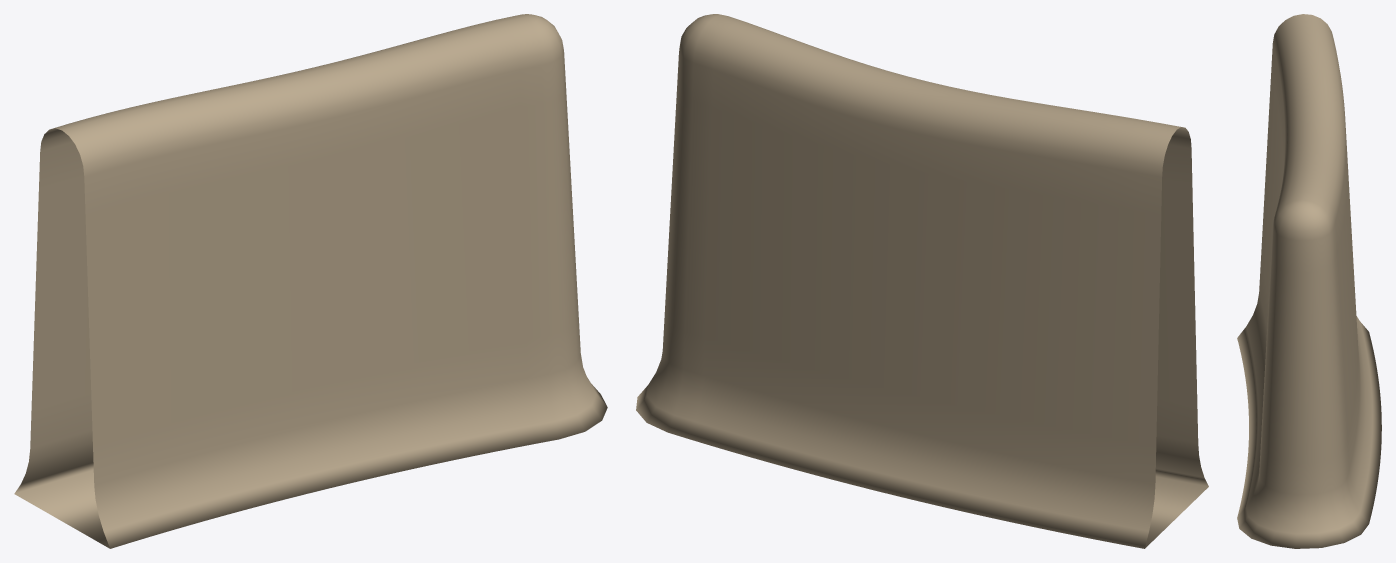
The model's file is KFB_Wall_curved_ring_r5_capA.r4.glb.
3 renders of one model, left to right at view 1: azimuth 30°, elevation 25°; view 2: azimuth 150°, elevation 25°; view 3: azimuth 270°, elevation 25°, orthographic. The views are drawn at different scales.
Parts seen in each view (by area): view 1: KFB_Wall_curved_ring_r5_capA; view 2: KFB_Wall_curved_ring_r5_capA; view 3: KFB_Wall_curved_ring_r5_capA.
Part boxes in pixels (<box>): KFB_Wall_curved_ring_r5_capA: <box>14,14,607,548</box>; KFB_Wall_curved_ring_r5_capA: <box>636,14,1208,548</box>; KFB_Wall_curved_ring_r5_capA: <box>1237,14,1381,548</box>.
Size of the model in its own units: 5.22 by 3.6 by 1.47.
